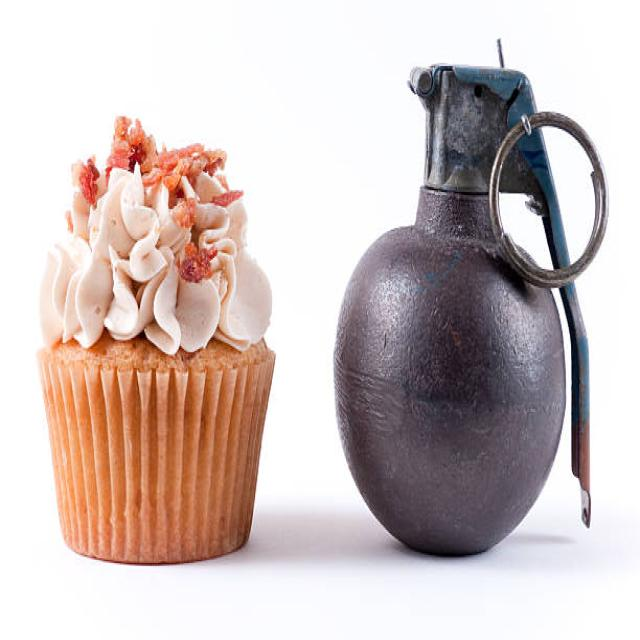grenade: (333, 35, 608, 565)
